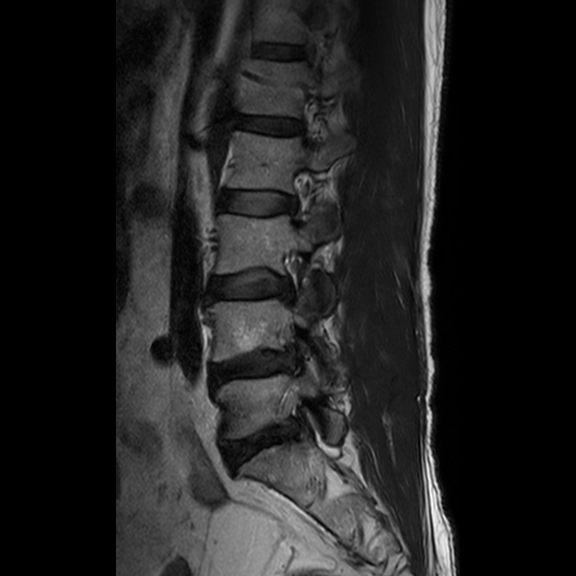RFS0: (274, 159, 318, 232)
RFS1: (265, 242, 314, 313)
RFS3: (272, 318, 325, 391)
